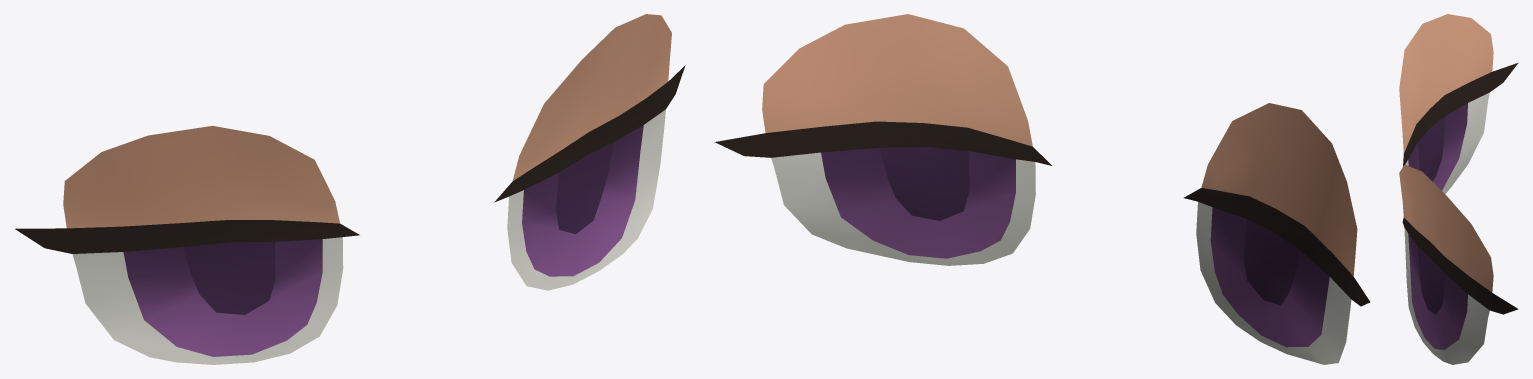
Rendered from Eye_Purple_2.fbx.
The picture shows the model from 3 angles, left to right: view 1: azimuth 30°, elevation 25°; view 2: azimuth 150°, elevation 25°; view 3: azimuth 270°, elevation 25°; orthographic projection. The views are drawn at different scales.
Visible parts, largest first — view 1: Eye_Purple_2; view 2: Eye_Purple_2; view 3: Eye_Purple_2.
Part boxes in pixels (x1=…): Eye_Purple_2: x1=15, y1=14, x2=685, y2=364; Eye_Purple_2: x1=714, y1=14, x2=1370, y2=364; Eye_Purple_2: x1=1399, y1=14, x2=1518, y2=364.
Bounding box in the file's own units: 41.23 × 14.51 × 8.45.
